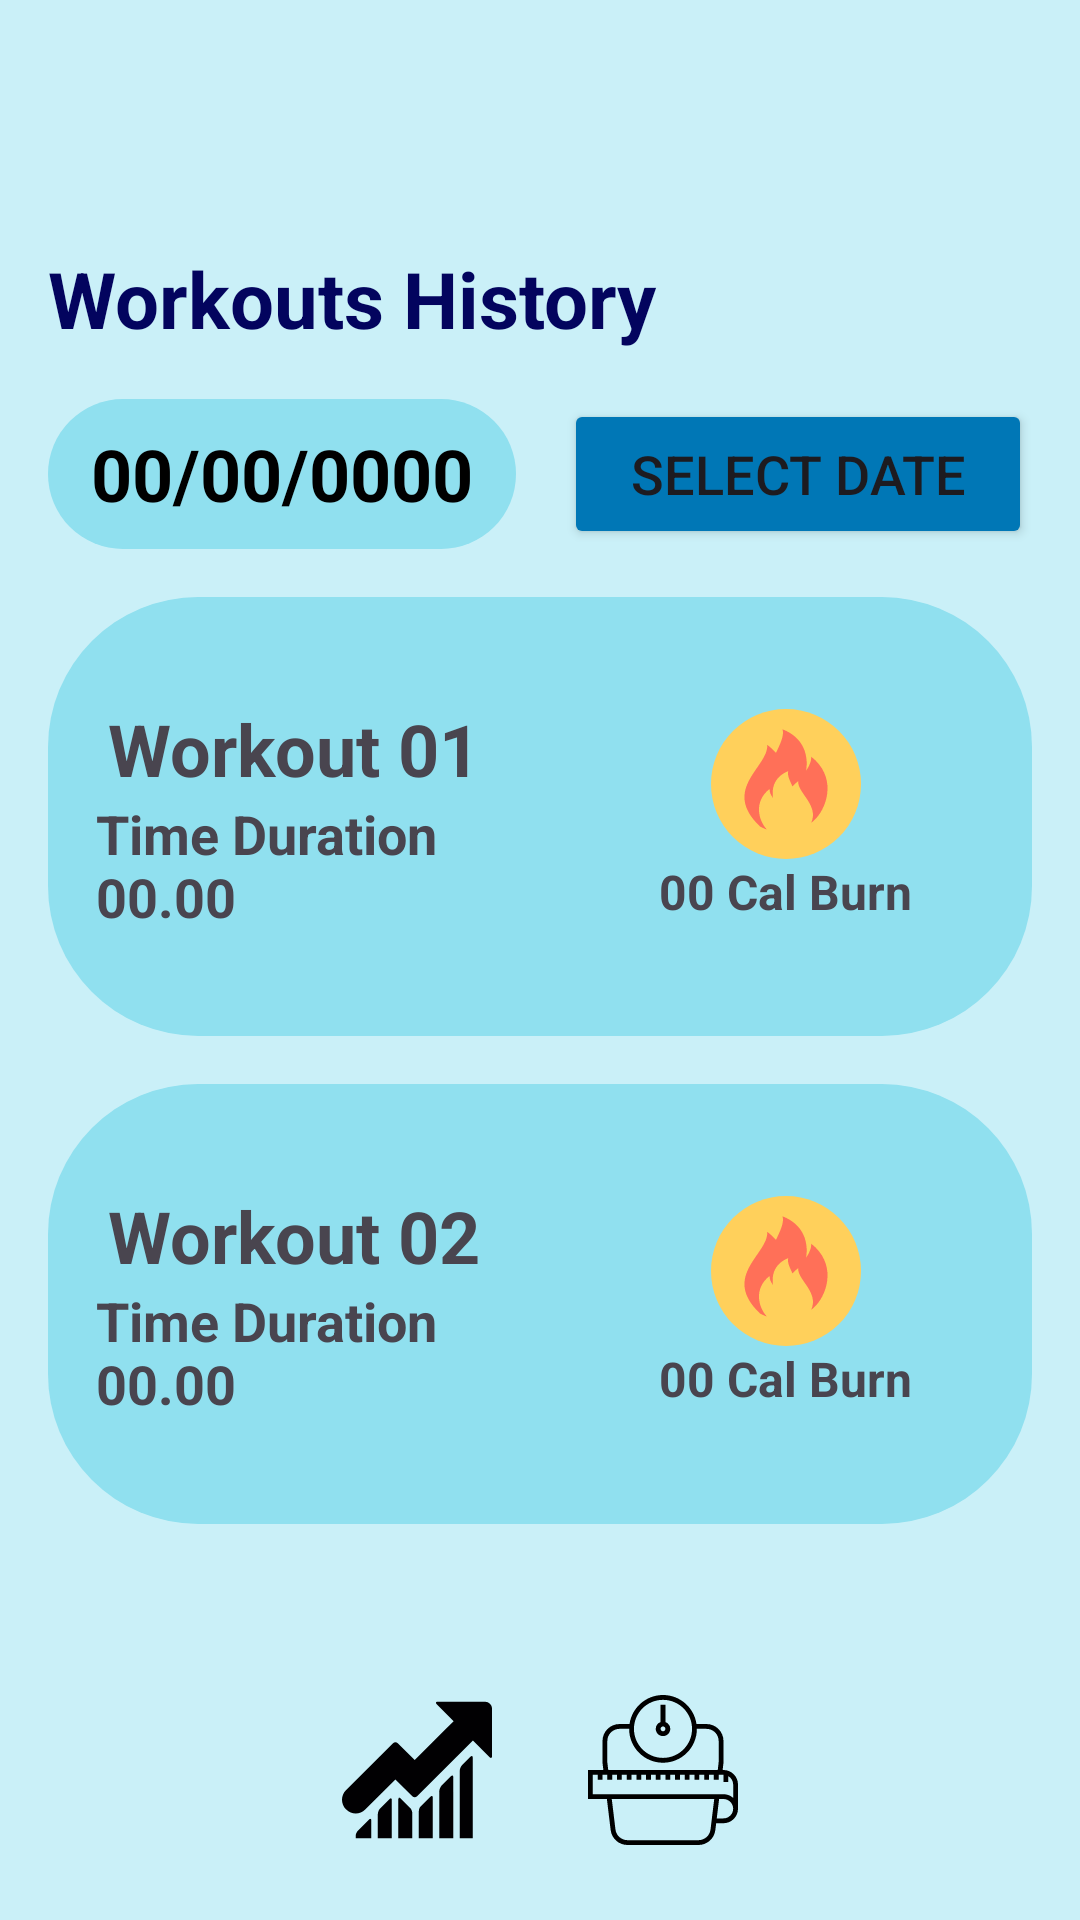

Where icons sit on this 1080×1920 app screen, as {"left": x1, "top": y1, "right": x2, "bottom": y2}:
body mass index: {"left": 588, "top": 1695, "right": 738, "bottom": 1845}
progress report: {"left": 342, "top": 1701, "right": 492, "bottom": 1839}
